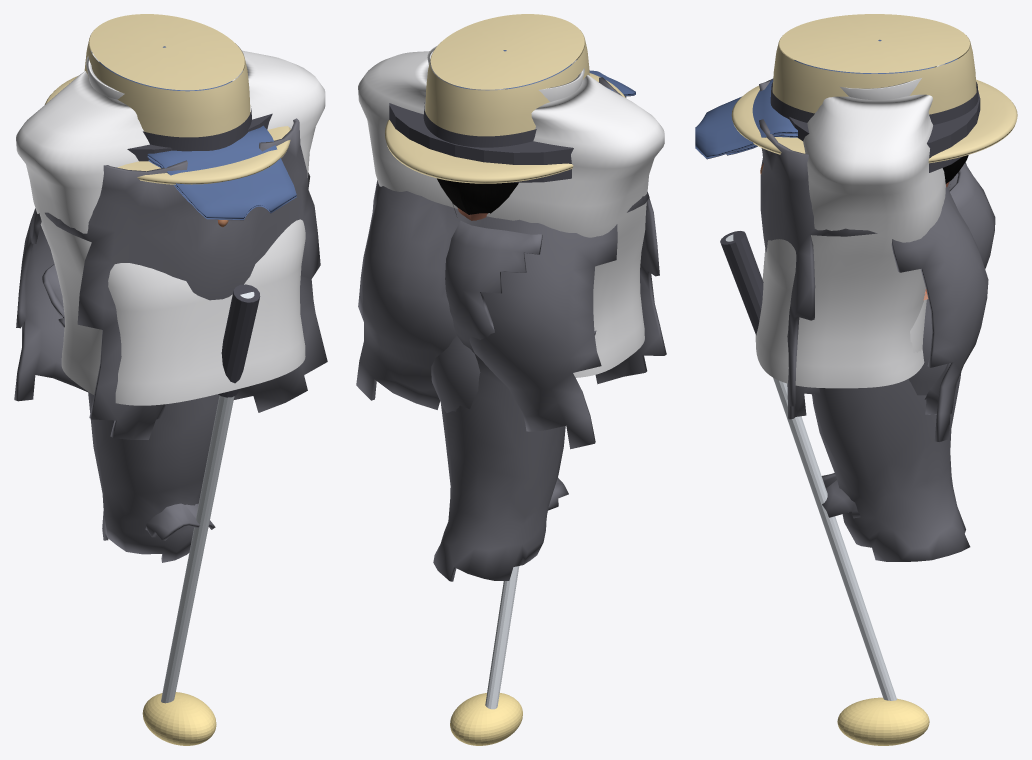
Rendered from hero_world.glb.
3 views of the same model, side by side, from view 1: azimuth 30°, elevation 25°; view 2: azimuth 150°, elevation 25°; view 3: azimuth 270°, elevation 25° (orthographic).
Visible parts, largest first — view 1: torso_shirt, pelvis, thigh, straw, straw_top, cap_brim, clubw_shaft, clubw_head, clubw_grip, shin, belt_strap, collar; view 2: pelvis, torso_shirt, thigh, straw, straw_top, belt_strap, shin, clubw_head, clubw_shaft, mpfb_hair, collar; view 3: torso_shirt, thigh, pelvis, straw, straw_top, clubw_shaft, clubw_head, cap_brim, clubw_grip, shin, belt_strap, collar.
Boxes of the visible parts, bbox=[...] form: torso_shirt: bbox=[16, 50, 325, 405]; pelvis: bbox=[14, 118, 327, 439]; thigh: bbox=[42, 264, 219, 562]; straw: bbox=[44, 30, 290, 184]; straw_top: bbox=[89, 14, 244, 90]; cap_brim: bbox=[147, 125, 296, 220]; clubw_shaft: bbox=[161, 292, 254, 703]; clubw_head: bbox=[142, 692, 216, 745]; clubw_grip: bbox=[218, 284, 260, 397]; shin: bbox=[145, 503, 215, 540]; belt_strap: bbox=[127, 113, 272, 161]; collar: bbox=[86, 45, 243, 99]; pelvis: bbox=[356, 77, 666, 449]; torso_shirt: bbox=[358, 51, 664, 377]; thigh: bbox=[433, 220, 596, 581]; straw: bbox=[384, 30, 625, 183]; straw_top: bbox=[430, 14, 584, 89]; belt_strap: bbox=[389, 103, 573, 182]; shin: bbox=[431, 335, 568, 510]; clubw_head: bbox=[450, 693, 522, 745]; clubw_shaft: bbox=[485, 566, 519, 709]; mpfb_hair: bbox=[437, 178, 518, 214]; collar: bbox=[427, 46, 584, 101]; torso_shirt: bbox=[755, 94, 945, 388]; thigh: bbox=[812, 162, 995, 561]; pelvis: bbox=[759, 78, 988, 441]; straw: bbox=[731, 35, 1017, 163]; straw_top: bbox=[779, 14, 969, 73]; clubw_shaft: bbox=[725, 234, 896, 700]; clubw_head: bbox=[837, 697, 929, 745]; cap_brim: bbox=[695, 79, 797, 159]; clubw_grip: bbox=[720, 231, 763, 335]; shin: bbox=[821, 299, 957, 518]; belt_strap: bbox=[789, 90, 980, 172]; collar: bbox=[840, 63, 944, 100].
Size of the model in its own units: 0.6827 by 1.57 by 0.6635.
Materials: 39 (28 with a texture image).
